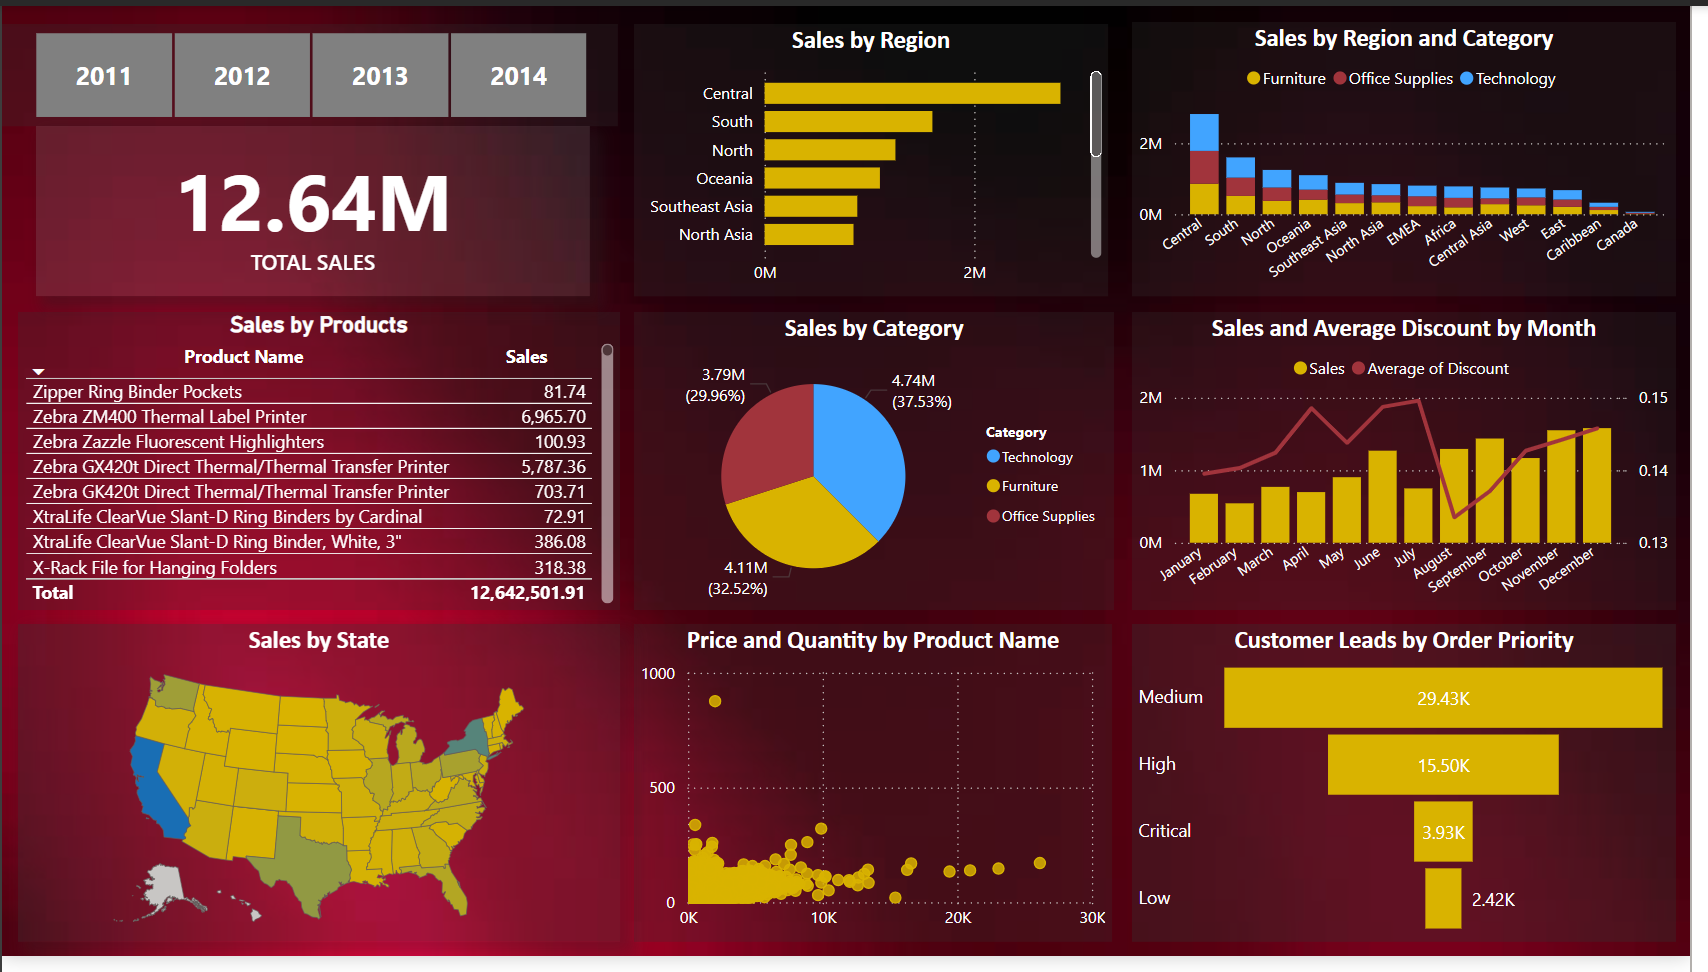

Layout of this report page (visuals, bound fields, positions):
{"tool":"powerbi","page":{"name":"Dashboard","canvas":[1280,720],"ordinal":0},"visuals":[{"type":"clusteredBarChart","fields":{"Category":["Orders.Region"],"Y":["Sum(Orders.Sales)"]},"box":[479.2,13.6,359.4,206.3],"z":0},{"type":"pieChart","title":"Sales by Category","fields":{"Y":["Sum(Orders.Sales)"],"Category":["Orders.Category"]},"box":[479.2,232,364,226],"z":1000},{"type":"scatterChart","fields":{"Category":["Orders.Product Name"],"X":["Sum(Orders.Price)"],"Y":["Sum(Orders.Quantity)"]},"box":[479.2,468.6,362.5,241.1],"z":2000},{"type":"tableEx","title":"Sales by Products","fields":{"Values":["Orders.Product Name","Sum(Orders.Sales)"]},"box":[12.1,232,456.5,226],"z":3000},{"type":"columnChart","fields":{"Category":["Orders.Region"],"Y":["Sum(Orders.Sales)"],"Series":["Orders.Category"]},"box":[856.9,12.1,412.5,207.8],"z":4000},{"type":"lineClusteredColumnComboChart","title":"Sales and Average Discount by Month","fields":{"Category":["Orders.Order Date.Variation.Date Hierarchy.Month"],"Y":["Sum(Orders.Sales)"],"Y2":["Avg(Orders.Discount)"]},"box":[856.9,232,412.5,226],"z":5000},{"type":"shapeMap","fields":{"Value":["Sum(Orders.Sales)"],"Category":["Orders.State"]},"box":[12.1,468.6,456.5,241.1],"z":6000},{"type":"funnel","title":"Customer Leads by Order Priority","fields":{"Y":["CountNonNull(Orders.Customer ID)"],"Category":["Orders.Order Priority"]},"box":[856.9,468.6,412.5,241.1],"z":7000},{"type":"slicer","fields":{"Values":["Orders.Order Date.Variation.Date Hierarchy.Year"]},"box":[0,13.6,467.1,77.3],"z":8000},{"type":"card","fields":{"Values":["Sum(Orders.Sales)"]},"box":[25.8,91,420.1,128.9],"z":9000}]}

Visuals, with their boxes in screenshot pixels (x1, y1, x2, y2), scaled from the page's 1280x720 canvas onto the 1708x972 screenshot:
clusteredBarChart - Orders.Region x Sum(Orders.Sales): BBox(639, 18, 1119, 297)
"Sales by Category" pieChart: BBox(639, 313, 1125, 618)
scatterChart - Orders.Product Name x Sum(Orders.Price): BBox(639, 633, 1123, 958)
"Sales by Products" tableEx: BBox(16, 313, 625, 618)
columnChart - Orders.Region x Sum(Orders.Sales): BBox(1143, 16, 1694, 297)
"Sales and Average Discount by Month" lineClusteredColumnComboChart: BBox(1143, 313, 1694, 618)
shapeMap - Sum(Orders.Sales) x Orders.State: BBox(16, 633, 625, 958)
"Customer Leads by Order Priority" funnel: BBox(1143, 633, 1694, 958)
slicer - Orders.Order Date.Variation.Date Hierarchy.Year: BBox(0, 18, 623, 123)
card - Sum(Orders.Sales): BBox(34, 123, 595, 297)
